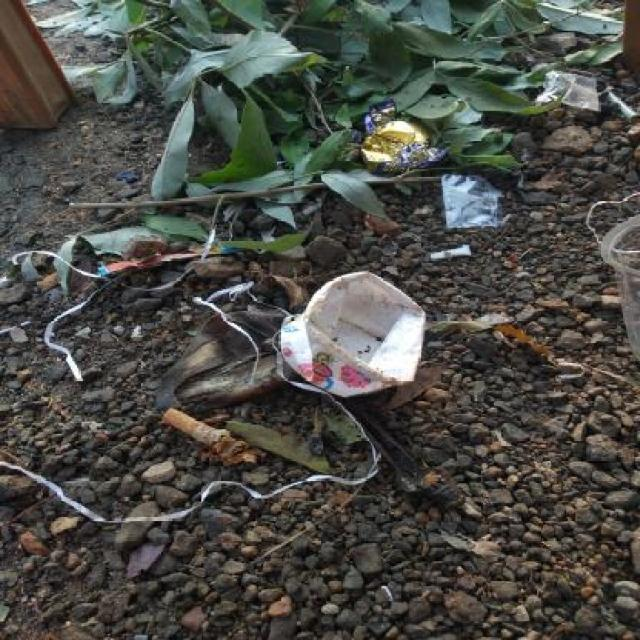garbage: (270, 251, 476, 438), (340, 96, 512, 233), (592, 192, 640, 400), (540, 59, 638, 124)
